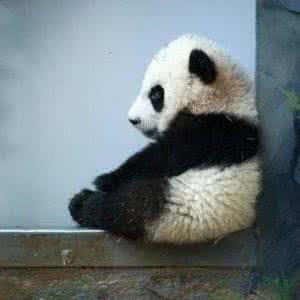panda: (63, 24, 263, 246)
